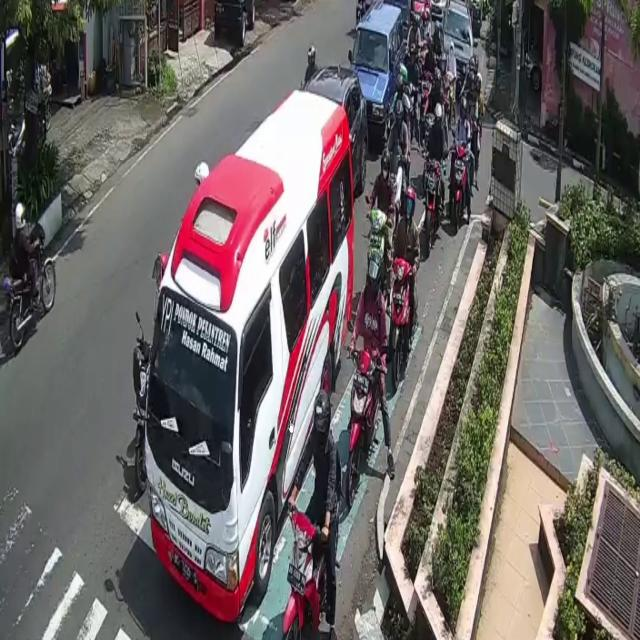bus: (285, 501, 332, 640), (3, 229, 56, 346), (349, 347, 380, 502), (363, 209, 390, 312), (394, 252, 411, 387), (425, 158, 443, 261), (452, 143, 468, 227)
car: (150, 90, 356, 619)
motorcycle: (351, 0, 407, 144), (312, 62, 370, 184), (438, 0, 474, 94)
